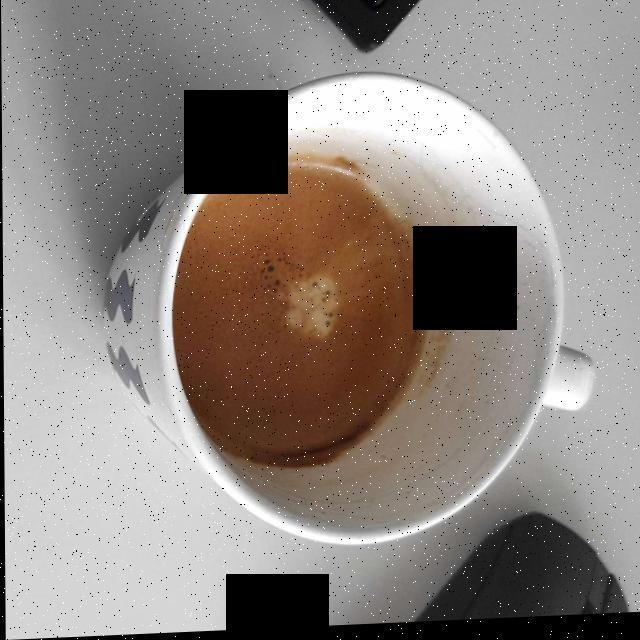coffee: (180, 158, 429, 471)
